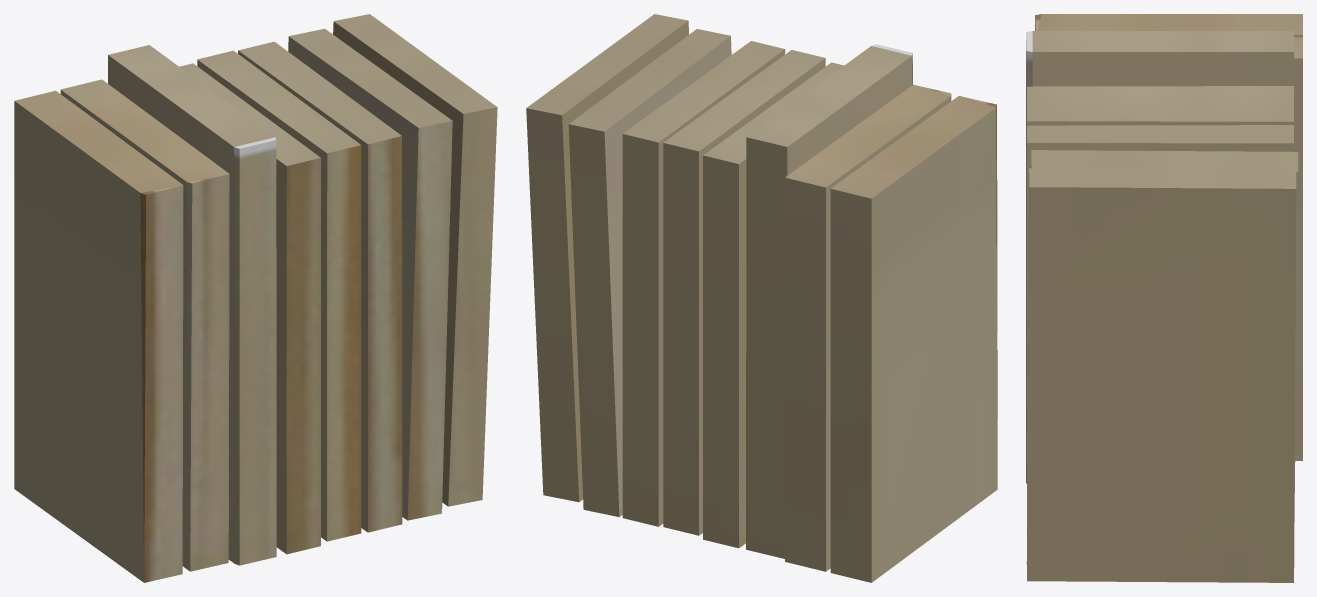
Rendered from book2_v3.dae.
3 renders of one model, left to right at view 1: azimuth 30°, elevation 25°; view 2: azimuth 150°, elevation 25°; view 3: azimuth 270°, elevation 25°, orthographic. The views are drawn at different scales.
Visible parts, largest first — view 1: node; view 2: node; view 3: node.
Part boxes in pixels (x1=…): node: x1=14, y1=14, x2=497, y2=582; node: x1=526, y1=14, x2=997, y2=582; node: x1=1026, y1=14, x2=1302, y2=582.
Size of the model in its own units: 0.1891 by 0.2142 by 0.1242.
1 material, 1 textured.
